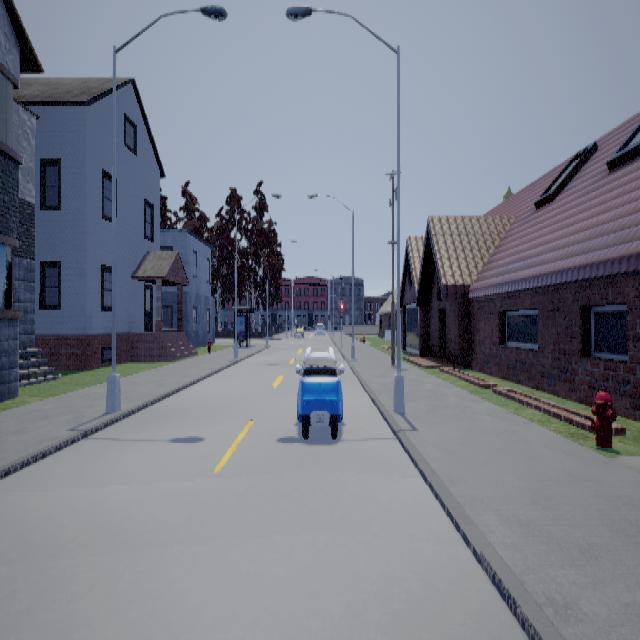red_light: (339, 300, 342, 318)
vehicle: (294, 342, 343, 438)
